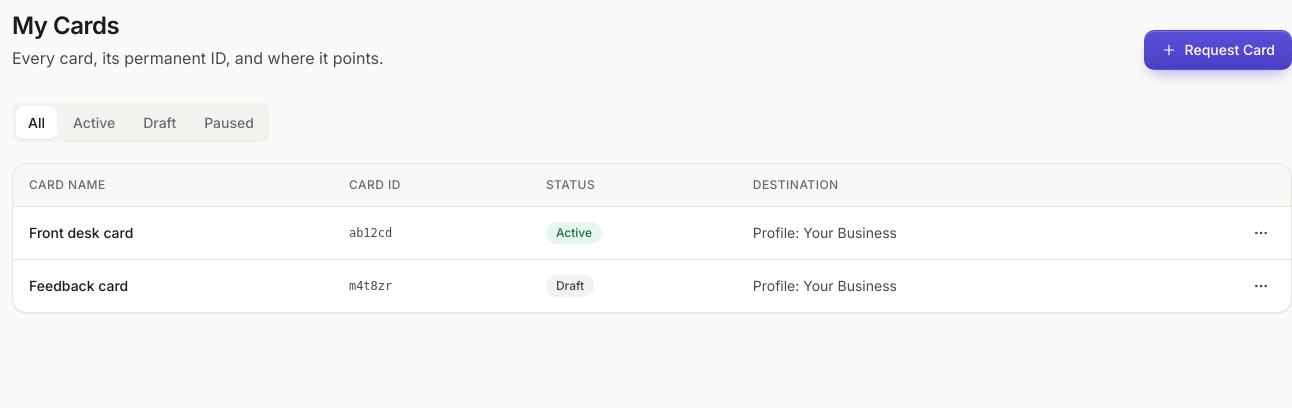
Scenario: My Cards › filters by status tab
Expected: the text "Front desk card" is shown, [13,207,333,259]
Click the tab "draft".
click(160, 122)  # box [131,106,188,139]
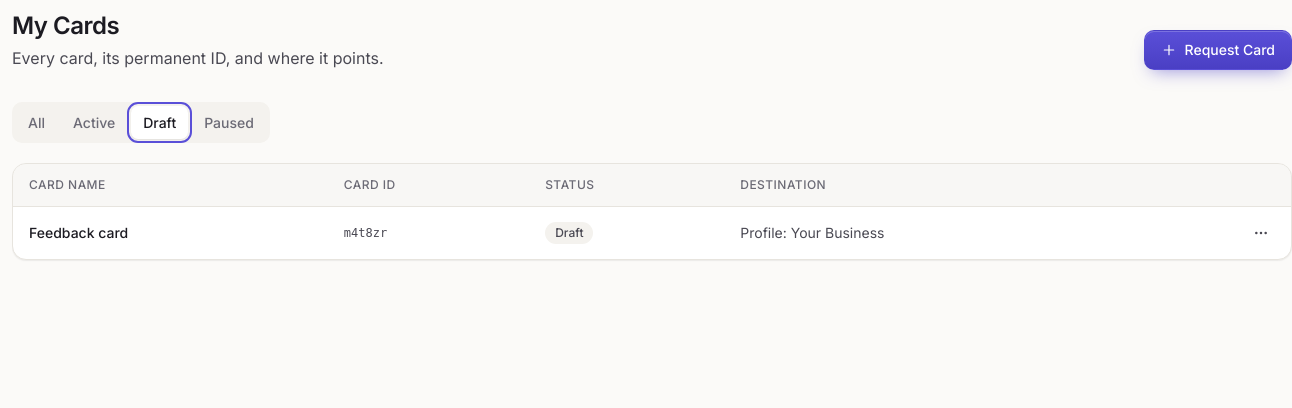
Expected: the text "Feedback card" is shown, [13,207,328,259]
Result: the text "Front desk card" is gone
Click the tab "paused".
click(229, 122)  # box [192,106,266,139]
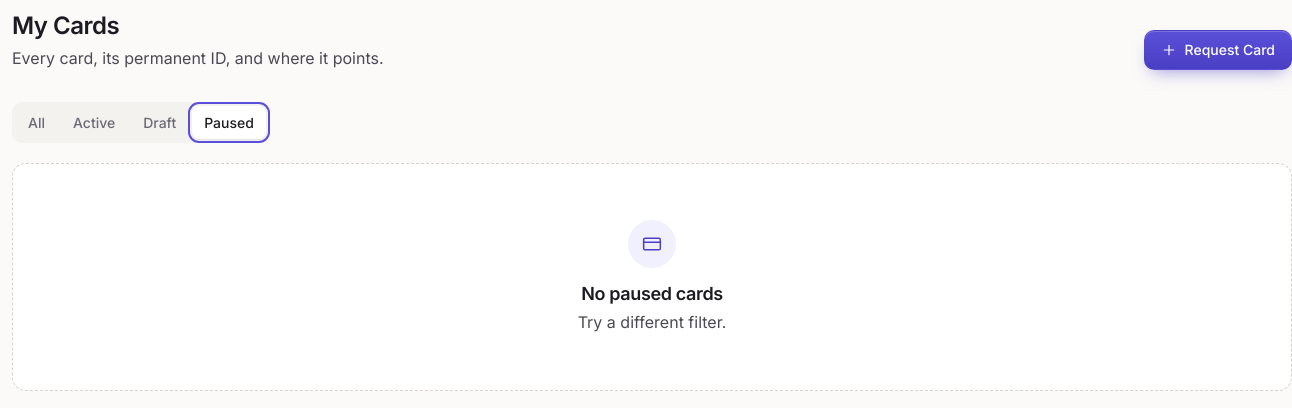
Result: the heading "No paused cards" is shown at [581,284,723,304]
